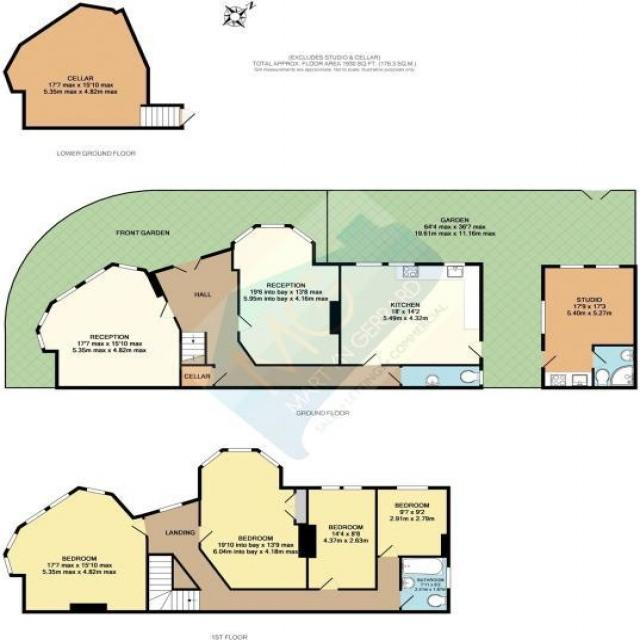DOOR: (156, 297, 180, 322), (464, 339, 486, 361), (128, 517, 149, 538), (361, 351, 386, 368), (236, 313, 255, 334), (589, 350, 608, 369), (540, 350, 558, 369), (197, 525, 215, 544), (398, 589, 415, 609), (319, 576, 341, 591), (379, 543, 400, 558)
ROOM: (33, 261, 184, 390), (2, 485, 150, 615), (196, 447, 318, 592), (328, 262, 484, 368), (230, 222, 342, 367), (540, 264, 638, 390), (298, 486, 378, 591), (373, 485, 451, 558)
WINDOW: (81, 266, 109, 286), (231, 224, 256, 245), (290, 225, 315, 246), (257, 448, 282, 469), (47, 491, 72, 511), (53, 285, 79, 304), (23, 507, 49, 526), (199, 449, 224, 468), (157, 500, 184, 514), (4, 531, 20, 553), (116, 262, 141, 273), (34, 332, 48, 351), (36, 310, 50, 329), (2, 555, 14, 576), (540, 299, 547, 334), (85, 486, 107, 497), (355, 260, 384, 268), (258, 223, 288, 230), (387, 261, 417, 268), (396, 485, 429, 491), (442, 261, 466, 268), (445, 567, 452, 590), (559, 264, 585, 270), (595, 264, 621, 270), (227, 447, 253, 453), (320, 485, 341, 490), (343, 485, 364, 490)
